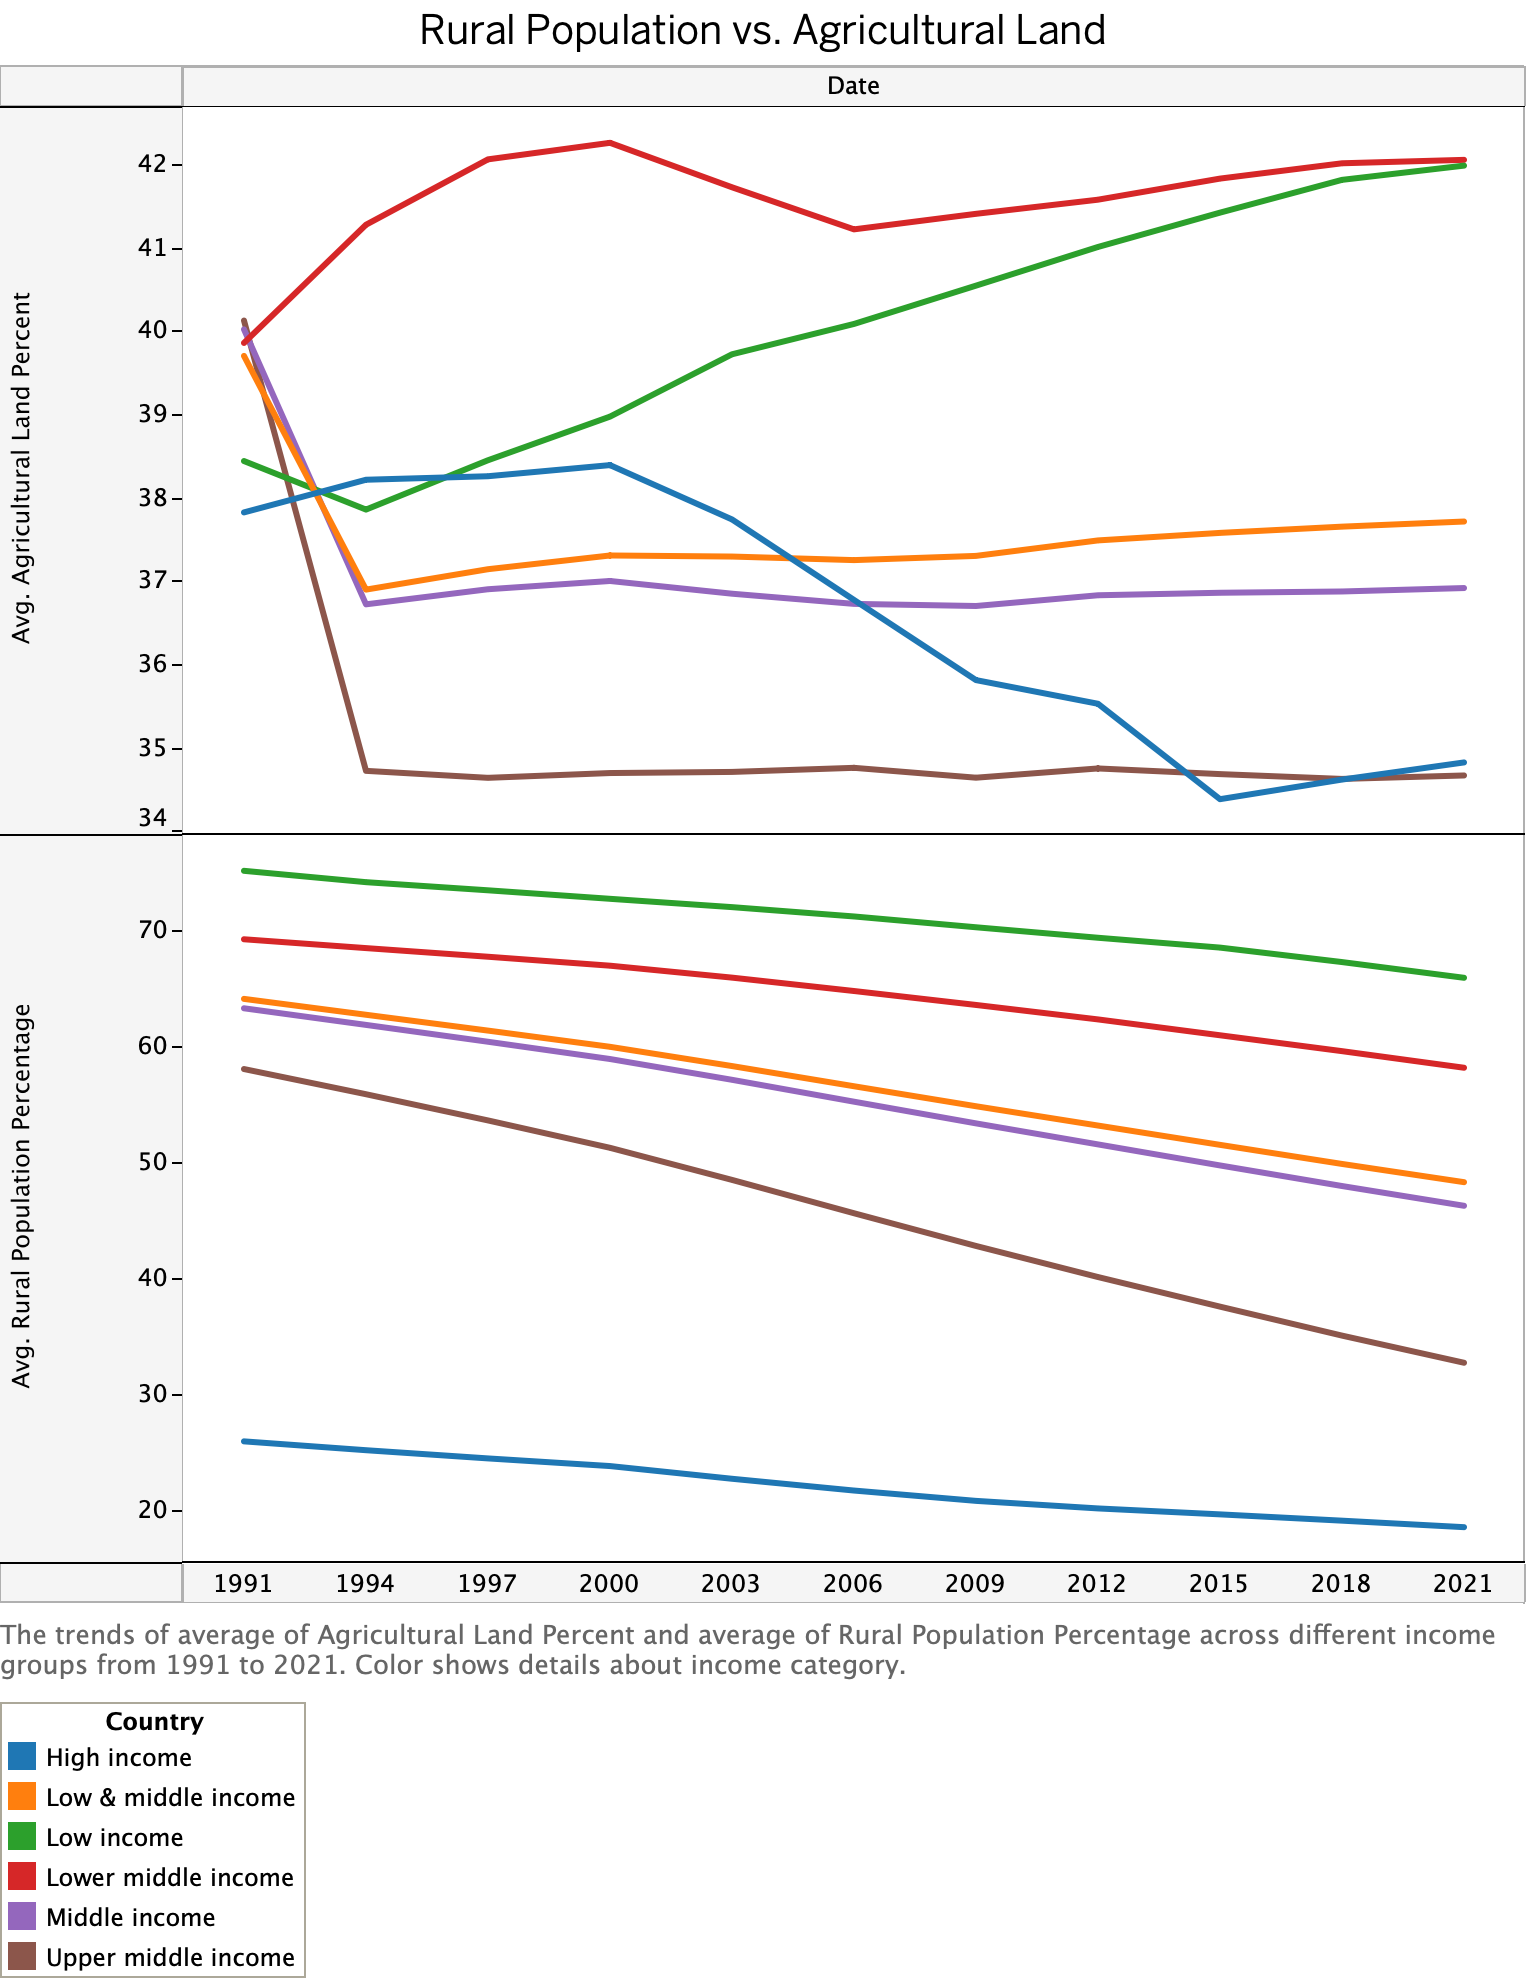

The page's visual inventory and layout, read from the dashboard file:
{"tool":"tableau","page":{"name":"Dashboard 1","canvas":[1000,800],"ordinal":0},"visuals":[{"type":"worksheet","title":"Rural population vs Agricultural Land1 from 1991 to 2021","mark":"Automatic","rows":["agricultural_land_percent","rural_population_percentage"],"cols":["date"],"box":[7,8,628,364]},{"type":"legend","title":"Rural population vs Agricultural Land1 from 1991 to 2021","param":"[federated.0ysu0vx1pjh6nv1bod39u1t4rv98].[none:country:nk]","box":[711,12,153,138]},{"type":"legend","title":"Rural population vs Agricultural Land2 from 1991 to 2021","param":"[federated.0ysu0vx1pjh6nv1bod39u1t4rv98].[:Measure Names]","box":[710,370,221,58]},{"type":"worksheet","title":"Rural population vs Agricultural Land2 from 1991 to 2021","mark":"Automatic","rows":["country","agricultural_land_percent","rural_population_percentage"],"cols":["date"],"box":[7,375,629,419]}]}

Visuals, with their boxes on the page's 1000x800 design canvas (x1, y1, x2, y2). These are canvas units, not pixel positions in the 1528x1980 screenshot, which may show the page scaled, cropped or inside an application window:
"Rural population vs Agricultural Land1 from 1991 to 2021" worksheet: <box>7,8,635,372</box>
"Rural population vs Agricultural Land1 from 1991 to 2021" legend: <box>711,12,864,150</box>
"Rural population vs Agricultural Land2 from 1991 to 2021" legend: <box>710,370,931,428</box>
"Rural population vs Agricultural Land2 from 1991 to 2021" worksheet: <box>7,375,636,794</box>
